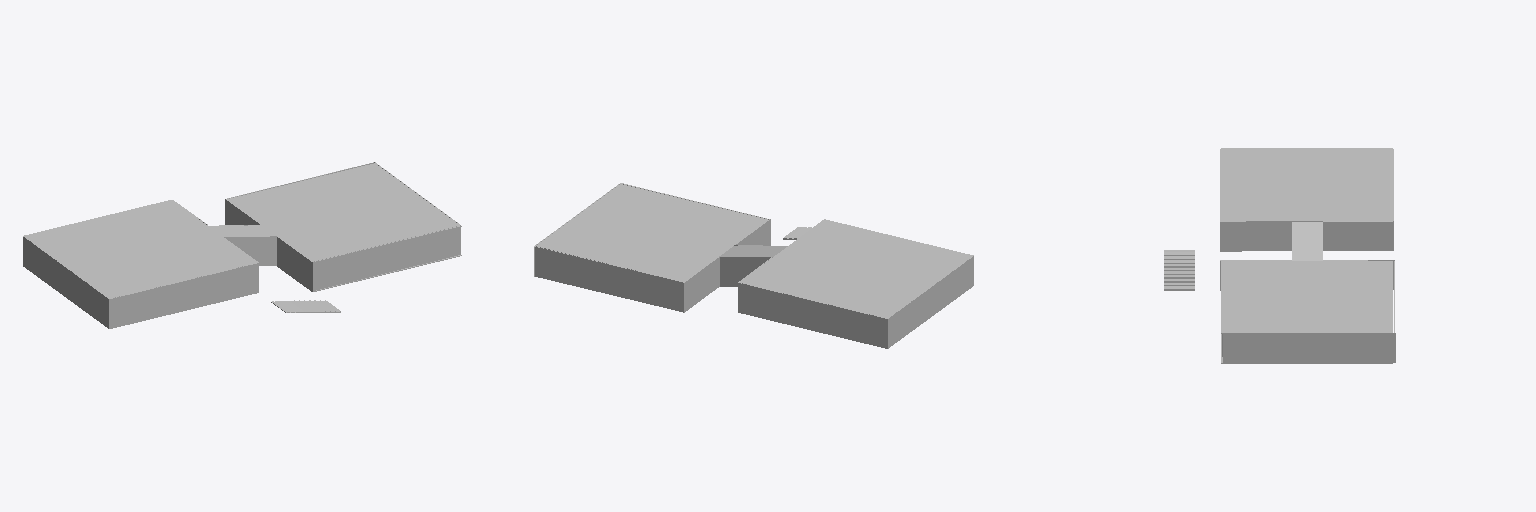
Rendered from map.obj.
The picture shows the model from 3 angles: view 1: azimuth 30°, elevation 25°; view 2: azimuth 150°, elevation 25°; view 3: azimuth 270°, elevation 25°; orthographic projection.
Parts seen in each view (by area): view 1: Cube.001, Cube.002_Cube.023, wall_Cube.005, Cube.013, wall.004_Cube.022, Cube.012, Cube.010, Cube.005_Cube.004, Cube.009; view 2: Cube.001, Cube.002_Cube.023, Cube.014, wall.003_Cube.021, wall.004_Cube.022, Cube.016, Cube.003, Cube.009; view 3: Cube.001, Cube.002_Cube.023, Cube.015, wall.001_wall, wall.002_Cube.020, Cube.005_Cube.004, Cube.009.
Part boxes in pixels (x1,y1,x2,y2): Cube.001: (24, 200, 257, 298); Cube.002_Cube.023: (227, 163, 461, 262); wall_Cube.005: (110, 263, 258, 328); Cube.013: (312, 225, 460, 290); wall.004_Cube.022: (23, 236, 109, 328); Cube.012: (277, 236, 312, 291); Cube.010: (224, 236, 276, 265); Cube.005_Cube.004: (271, 300, 340, 312); Cube.009: (209, 225, 275, 236); Cube.001: (739, 220, 972, 319); Cube.002_Cube.023: (536, 183, 767, 281); Cube.014: (535, 246, 683, 312); wall.003_Cube.021: (738, 282, 886, 348); wall.004_Cube.022: (887, 256, 973, 348); Cube.016: (684, 257, 719, 312); Cube.003: (719, 256, 770, 286); Cube.009: (721, 246, 787, 256); Cube.001: (1221, 148, 1392, 221); Cube.002_Cube.023: (1221, 261, 1392, 333); Cube.015: (1223, 333, 1395, 362); wall.001_wall: (1220, 221, 1292, 251); wall.002_Cube.020: (1323, 221, 1392, 250); Cube.005_Cube.004: (1164, 250, 1194, 290); Cube.009: (1293, 222, 1321, 260).
Size of the model in its own units: 947 by 111 by 537.